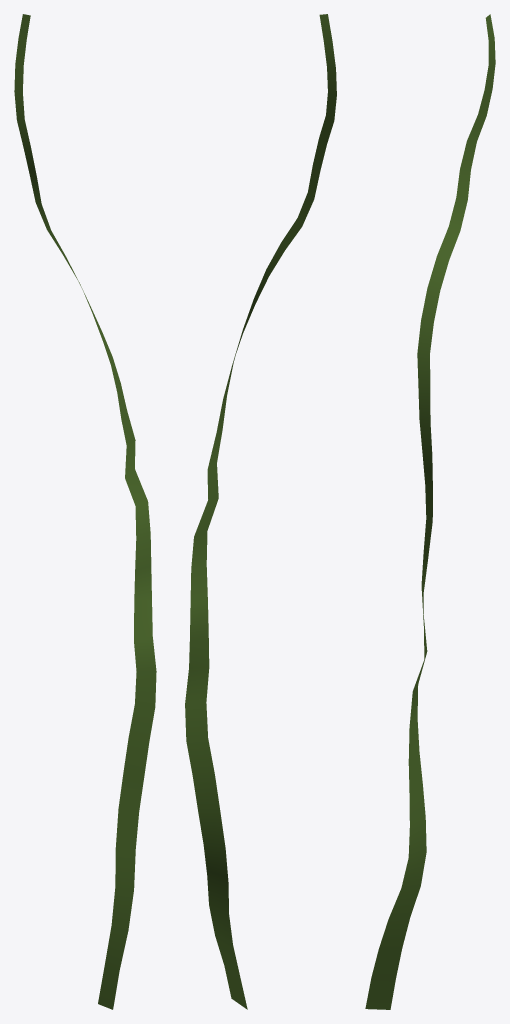
The model's file is plant_swamp_kelp_long_solo_C.fbx.
The picture shows the model from 3 angles, left to right: view 1: azimuth 30°, elevation 25°; view 2: azimuth 210°, elevation 25°; view 3: azimuth 270°, elevation 25°; orthographic projection. The views are drawn at different scales.
Parts seen in each view (by area): view 1: plant_swamp_kelp_long_solo_C; view 2: plant_swamp_kelp_long_solo_C; view 3: plant_swamp_kelp_long_solo_C.
Part boxes in pixels (<box>): plant_swamp_kelp_long_solo_C: <box>14,14,156,1009</box>; plant_swamp_kelp_long_solo_C: <box>185,14,336,1009</box>; plant_swamp_kelp_long_solo_C: <box>365,14,495,1009</box>.
Size of the model in its own units: 37.37 by 328 by 39.39.
